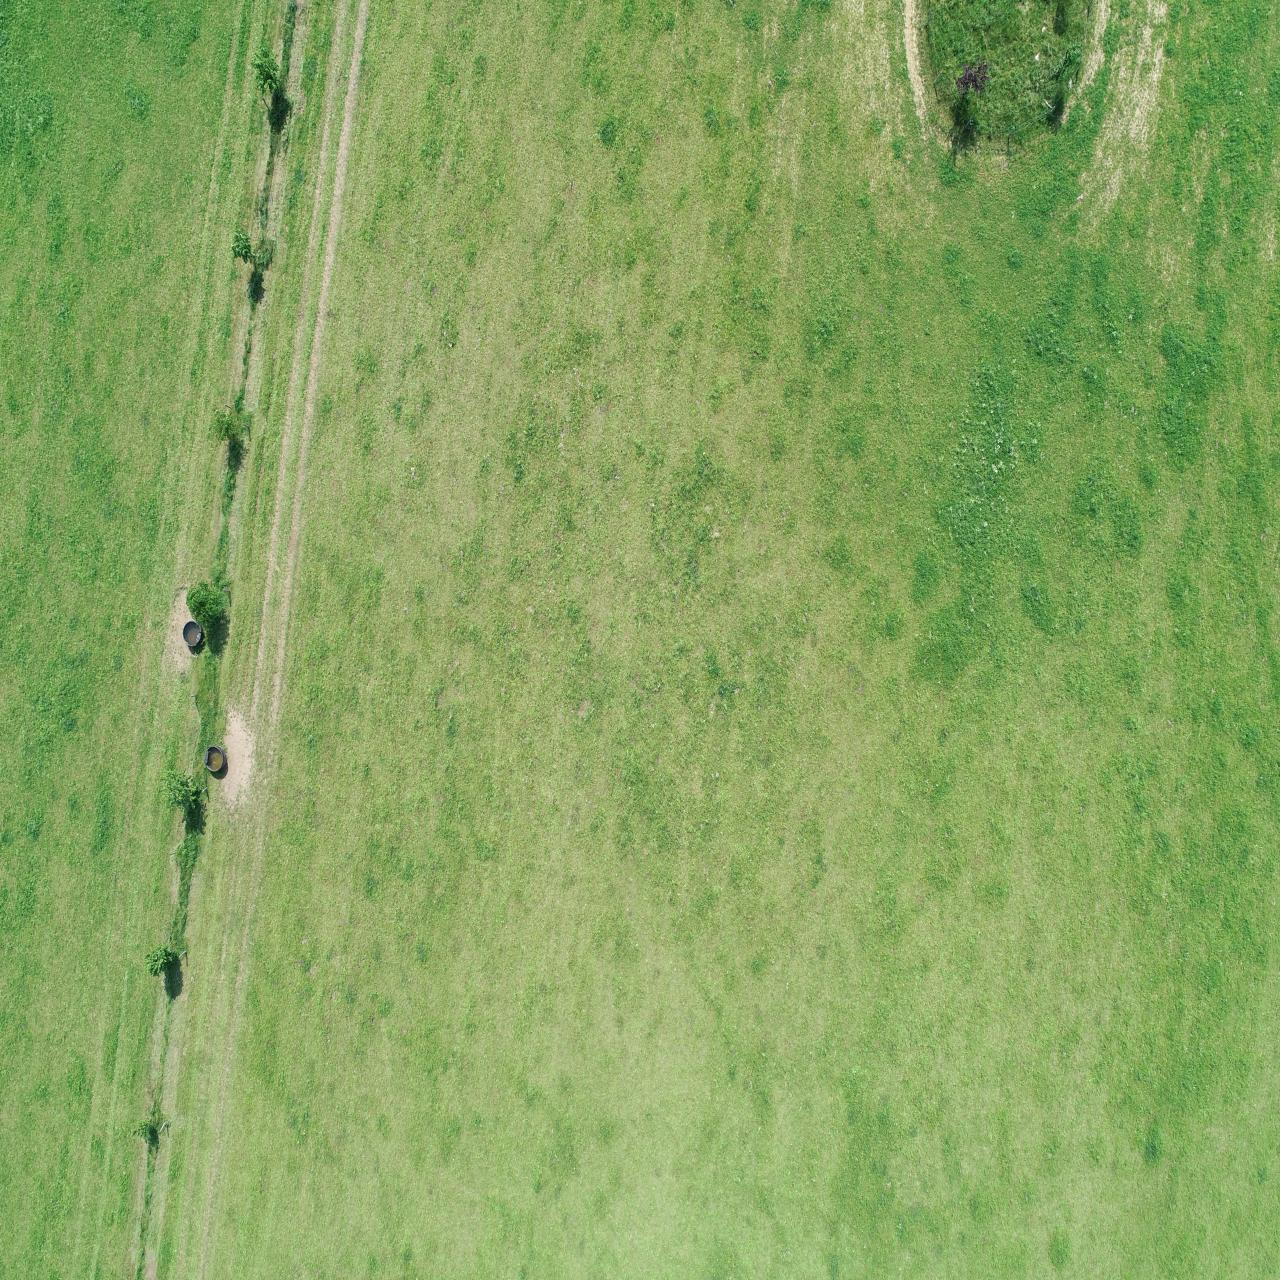cow: (469, 778, 498, 842)
